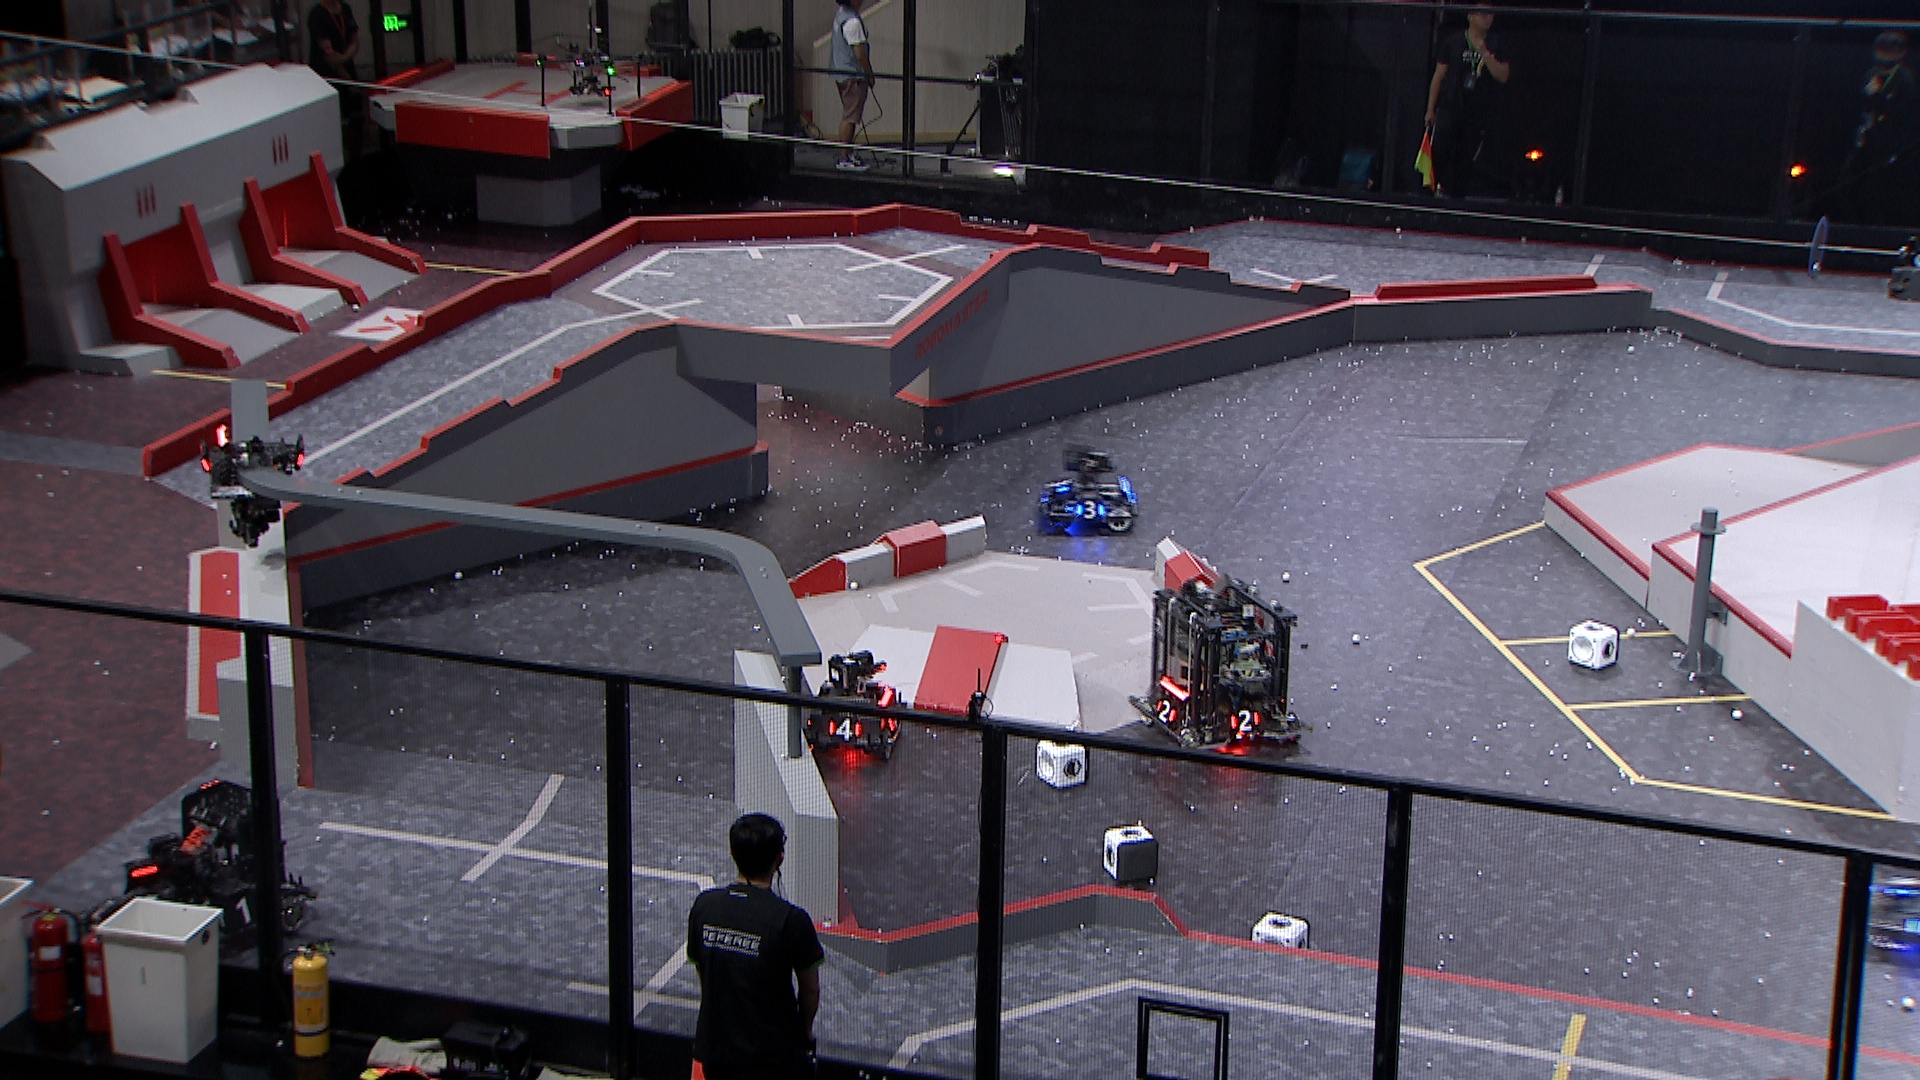armor: (215, 897, 257, 927), (1884, 870, 1920, 903), (828, 716, 865, 741), (1228, 708, 1262, 733), (1076, 498, 1106, 524), (1154, 699, 1179, 725), (1048, 477, 1072, 495)
car: (80, 778, 319, 968), (1129, 576, 1313, 757), (798, 650, 906, 764), (1035, 444, 1139, 531), (1871, 829, 1920, 963)
watcher: (193, 423, 309, 550)
